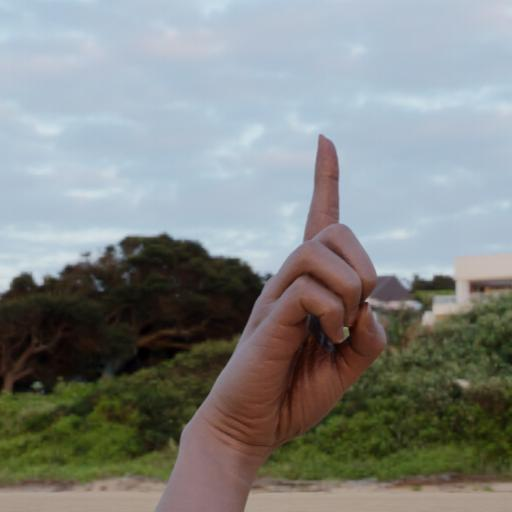D: (178, 131, 394, 441)
